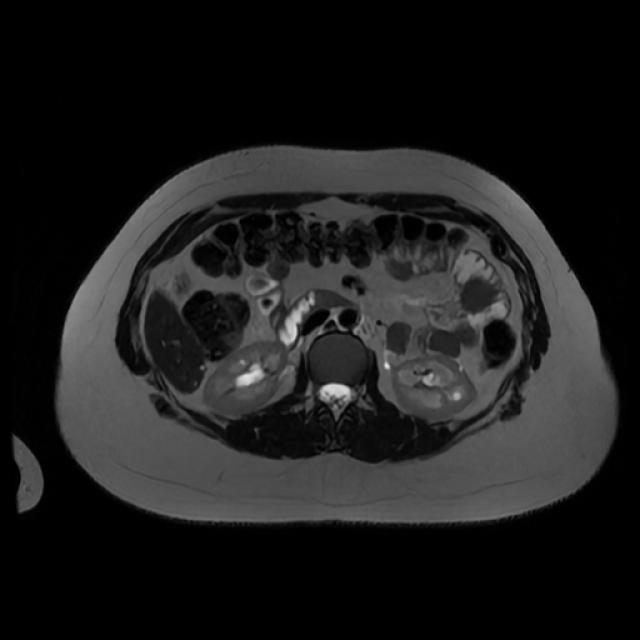sag: (205, 340, 287, 413)
sol: (386, 352, 473, 418)
